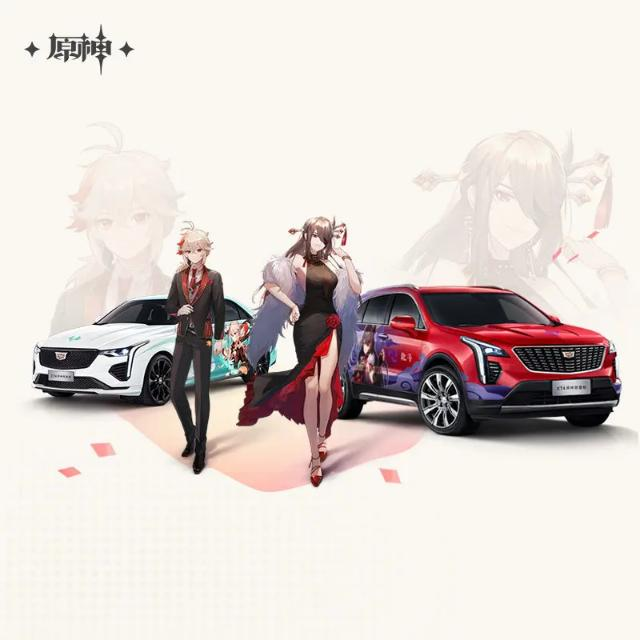cadillac: (336, 282, 622, 433), (32, 296, 255, 408)
